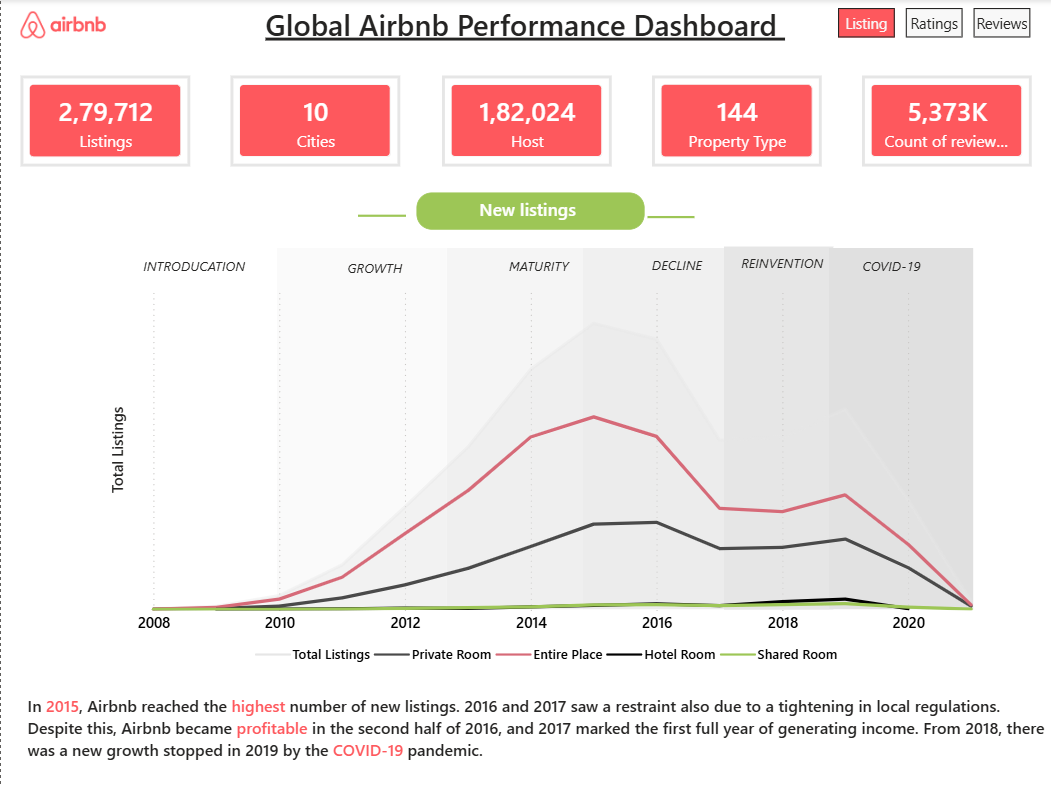

The page's visual inventory and layout, read from the dashboard file:
{"tool":"powerbi","page":{"name":"Listing ","canvas":[960,720],"ordinal":0},"visuals":[{"type":"textbox","box":[157.8,0,643.6,70],"z":0},{"type":"cardVisual","fields":{"Data":["CountNonNull(Listings.listing_id)"]},"box":[18.3,70.4,155.1,83.1],"z":0,"group":"g2"},{"type":"textbox","box":[379.3,177,208.5,33.8],"z":0,"group":"g1"},{"type":"textbox","box":[71.8,230.1,210.8,32],"z":0,"group":"g5"},{"type":"image","box":[18.3,0,78,47.6],"z":1000},{"type":"cardVisual","fields":{"Data":["Count(Listings.city)"]},"box":[210.9,70.4,155.1,83.1],"z":1000,"group":"g2"},{"type":"shape","box":[326.4,180.5,43.9,34.3],"z":1000,"group":"g1"},{"type":"textbox","box":[265.9,230.3,154.5,47.4],"z":1000,"group":"g5"},{"type":"cardVisual","fields":{"Data":["Count(Listings.host_id)"]},"box":[403.4,70.4,155.1,83.1],"z":2000,"group":"g2"},{"type":"group","id":"g1","title":"Newlistinggreen","box":[326.4,177,307.9,38.9],"z":2000},{"type":"shape","box":[591.3,181.9,43,34],"z":2000,"group":"g1"},{"type":"textbox","box":[444.2,229.6,97.5,69.4],"z":2000,"group":"g5"},{"type":"group","id":"g2","title":"KPIS","box":[18.3,70.4,925.4,83.1],"z":3000},{"type":"cardVisual","fields":{"Data":["Count(Listings.property_type)"]},"box":[596,70.4,155.1,83.1],"z":3000,"group":"g2"},{"type":"textbox","box":[582.3,228.2,73.1,51.7],"z":3000,"group":"g5"},{"type":"cardVisual","fields":{"Data":["CountNonNull(Reviews.review_id)"]},"box":[788.6,70.4,155.1,83.1],"z":4000,"group":"g2"},{"type":"textbox","box":[664,226.8,101.2,50.6],"z":4000,"group":"g5"},{"type":"textbox","box":[18.8,631.2,941.7,89.6],"z":4000},{"type":"actionButton","box":[0,0,100,40],"z":5000},{"type":"textbox","box":[778.1,229.6,73.1,31.8],"z":5000,"group":"g5"},{"type":"pageNavigator","box":[765.2,7.6,178.8,27.3],"z":6000},{"type":"group","id":"g3","title":"Group 3","box":[71.8,226.8,816.9,332.4],"z":7000},{"type":"lineChart","fields":{"Category":["Listings.host_since.Variation.Date Hierarchy.Year"],"Y":["CountNonNull(Listings.listing_id)","Listings.Private Room","Listings.Entire Room","Listings.Hotel Room","Listings.Shared Room"]},"box":[95.6,252.2,811.1,365.6],"z":8000},{"type":"shape","box":[97.8,228.8,155.3,330.4],"z":9000,"group":"g4"},{"type":"shape","box":[408.4,228.8,125.1,330.4],"z":10000,"group":"g4"},{"type":"shape","box":[533.4,228.8,141.5,330.4],"z":11000,"group":"g4"},{"type":"shape","box":[661.7,226.8,100.1,332.3],"z":12000,"group":"g4"},{"type":"shape","box":[757.4,228.8,131.9,330.4],"z":13000,"group":"g4"},{"type":"shape","box":[253.1,228.8,155.3,330.4],"z":14001,"group":"g4"},{"type":"group","id":"g4","title":"Group 1","box":[97.8,226.8,791.5,332.4],"z":14002,"group":"g3"},{"type":"group","id":"g5","title":"Group 2","box":[71.8,226.8,779.4,72.2],"z":14502,"group":"g3"}]}

Visuals, with their boxes in screenshot pixels (x1, y1, x2, y2), scaled from the page's 960x720 canvas onto the 1051x786 screenshot:
textbox: rect(173, 0, 877, 76)
cardVisual - CountNonNull(Listings.listing_id): rect(20, 77, 190, 168)
textbox: rect(415, 193, 644, 230)
textbox: rect(79, 251, 309, 286)
image: rect(20, 0, 105, 52)
cardVisual - Count(Listings.city): rect(231, 77, 401, 168)
shape: rect(357, 197, 405, 234)
textbox: rect(291, 251, 460, 303)
cardVisual - Count(Listings.host_id): rect(442, 77, 611, 168)
"Newlistinggreen" group: rect(357, 193, 694, 236)
shape: rect(647, 199, 694, 236)
textbox: rect(486, 251, 593, 326)
"KPIS" group: rect(20, 77, 1033, 168)
cardVisual - Count(Listings.property_type): rect(652, 77, 822, 168)
textbox: rect(637, 249, 718, 306)
cardVisual - CountNonNull(Reviews.review_id): rect(863, 77, 1033, 168)
textbox: rect(727, 248, 838, 303)
textbox: rect(21, 689, 1050, 785)
actionButton: rect(0, 0, 109, 44)
textbox: rect(852, 251, 932, 285)
pageNavigator: rect(838, 8, 1033, 38)
"Group 3" group: rect(79, 248, 973, 610)
lineChart - Listings.host_since.Variation.Date Hierarchy.Year x CountNonNull(Listings.listing_id): rect(105, 275, 993, 674)
shape: rect(107, 250, 277, 610)
shape: rect(447, 250, 584, 610)
shape: rect(584, 250, 739, 610)
shape: rect(724, 248, 834, 610)
shape: rect(829, 250, 974, 610)
shape: rect(277, 250, 447, 610)
"Group 1" group: rect(107, 248, 974, 610)
"Group 2" group: rect(79, 248, 932, 326)
